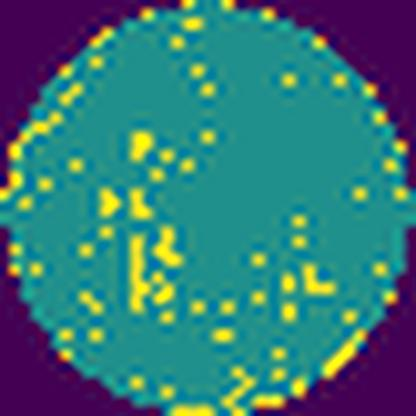Scratch: (126, 228, 152, 318)
